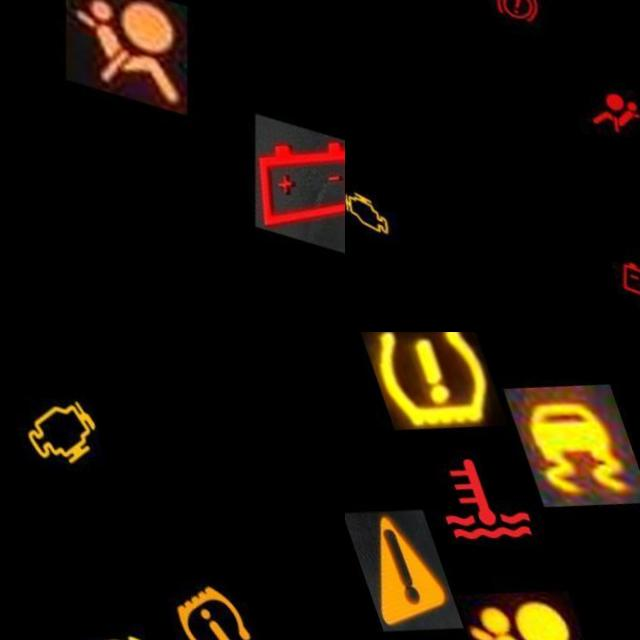Central Warning lamp: (345, 502, 449, 635)
Engine cooling system: (393, 425, 549, 565)
